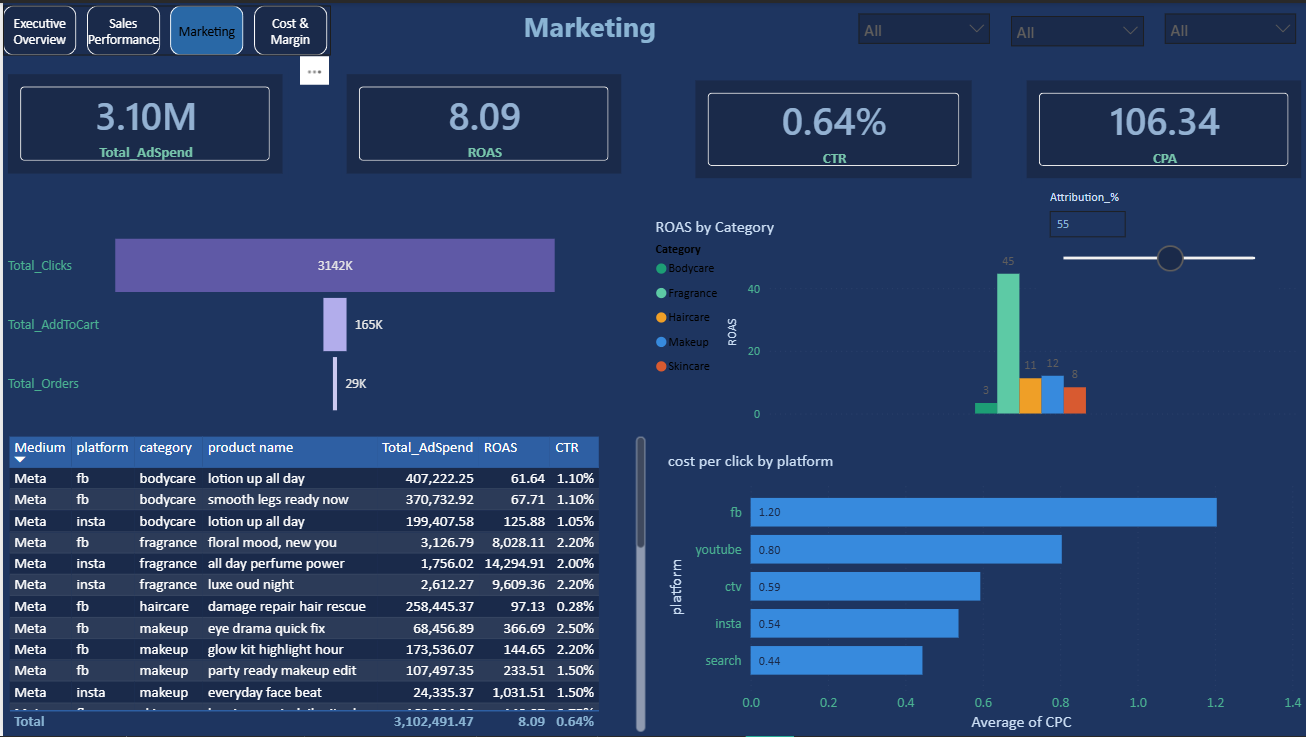

This screenshot's page, from the dashboard's own definition file:
{"tool":"powerbi","page":{"name":"Marketing","canvas":[1280,720],"ordinal":2},"visuals":[{"type":"textbox","box":[320.9,0,509.1,49.5],"z":0},{"type":"slicer","fields":{"Values":["Dim_Category.Category"]},"box":[1122,65.4,149.4,49.4],"z":1000},{"type":"pageNavigator","box":[0,2.4,320.9,49.5],"z":2000},{"type":"cardVisual","fields":{"Data":["Ad_Campaign_Data.Total_AdSpend"]},"box":[0,65.4,279.7,107.1],"z":3000},{"type":"cardVisual","fields":{"Data":["Ad_Campaign_Data.ROAS"]},"box":[333,65.4,279.7,107.1],"z":4000},{"type":"cardVisual","fields":{"Data":["Ad_Campaign_Data.CTR"]},"box":[675.5,70.9,281.1,107],"z":5000},{"type":"cardVisual","fields":{"Data":["Ad_Campaign_Data.CAC"]},"box":[1000,71.2,279.8,106.7],"z":6000},{"type":"funnel","fields":{"Y":["Ad_Campaign_Data.Total_Clicks","Ad_Campaign_Data.Total_AddToCart","fact_sales.Total_Orders"]},"box":[0,209.8,551.7,211.1],"z":7000},{"type":"clusteredColumnChart","fields":{"Y":["Ad_Campaign_Data.ROAS"],"Series":["Dim_Category.Category"]},"box":[635.6,209.8,639.3,207.4],"z":8000},{"type":"clusteredBarChart","title":"cost per click by platform","fields":{"Y":["Avg(Ad_Campaign_Data.CPC)"],"Category":["Ad_Campaign_Data.platform"]},"box":[647.9,439.3,631.9,281],"z":9000},{"type":"tableEx","fields":{"Values":["Ad_Campaign_Data.Medium","Ad_Campaign_Data.platform","Ad_Campaign_Data.category","Ad_Campaign_Data.product name","Ad_Campaign_Data.Total_AdSpend","Ad_Campaign_Data.ROAS","Ad_Campaign_Data.CTR"]},"box":[0,420.9,635.6,299.4],"z":10000},{"type":"slicer","fields":{"Values":["Dim_Date.Date.Variation.Date Hierarchy.Year"]},"box":[830,0,149.6,49.5],"z":11000},{"type":"slicer","fields":{"Values":["Dim_Month.YearMonth"]},"box":[979.6,2.4,150.8,47.1],"z":12000},{"type":"slicer","fields":{"Values":["Dim_Category.Category"]},"box":[1130.4,0,149.6,49.5],"z":13000},{"type":"slicer","fields":{"Values":["Attribution_%.Attribution_%"]},"box":[1014.7,177.9,235.6,103.1],"z":14000}]}

Visuals, with their boxes in screenshot pixels (x1, y1, x2, y2), scaled from the page's 1280x720 canvas onto the 1306x737 screenshot:
textbox: [x1=327, y1=0, x2=847, y2=51]
slicer - Dim_Category.Category: [x1=1145, y1=67, x2=1297, y2=118]
pageNavigator: [x1=0, y1=2, x2=327, y2=53]
cardVisual - Ad_Campaign_Data.Total_AdSpend: [x1=0, y1=67, x2=285, y2=177]
cardVisual - Ad_Campaign_Data.ROAS: [x1=340, y1=67, x2=625, y2=177]
cardVisual - Ad_Campaign_Data.CTR: [x1=689, y1=73, x2=976, y2=182]
cardVisual - Ad_Campaign_Data.CAC: [x1=1020, y1=73, x2=1305, y2=182]
funnel - Ad_Campaign_Data.Total_Clicks x Ad_Campaign_Data.Total_AddToCart: [x1=0, y1=215, x2=563, y2=431]
clusteredColumnChart - Ad_Campaign_Data.ROAS x Dim_Category.Category: [x1=649, y1=215, x2=1301, y2=427]
"cost per click by platform" clusteredBarChart: [x1=661, y1=450, x2=1305, y2=736]
tableEx - Ad_Campaign_Data.Medium x Ad_Campaign_Data.platform: [x1=0, y1=431, x2=649, y2=736]
slicer - Dim_Date.Date.Variation.Date Hierarchy.Year: [x1=847, y1=0, x2=999, y2=51]
slicer - Dim_Month.YearMonth: [x1=999, y1=2, x2=1153, y2=51]
slicer - Dim_Category.Category: [x1=1153, y1=0, x2=1305, y2=51]
slicer - Attribution_%.Attribution_%: [x1=1035, y1=182, x2=1276, y2=288]
